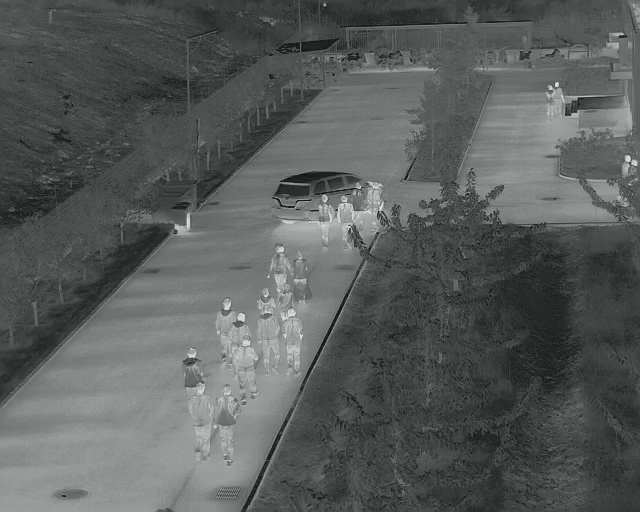person: (215, 382, 242, 474), (190, 379, 215, 464), (256, 306, 282, 377), (235, 334, 260, 406), (281, 308, 303, 377), (215, 294, 232, 368), (267, 243, 293, 282), (179, 346, 207, 382), (294, 248, 312, 304), (318, 193, 334, 252), (336, 194, 351, 251), (368, 181, 381, 228), (230, 312, 253, 336), (352, 182, 366, 221), (543, 84, 555, 123), (278, 284, 294, 310), (257, 287, 276, 308), (555, 81, 565, 117)
vehicle: (268, 170, 368, 225)
